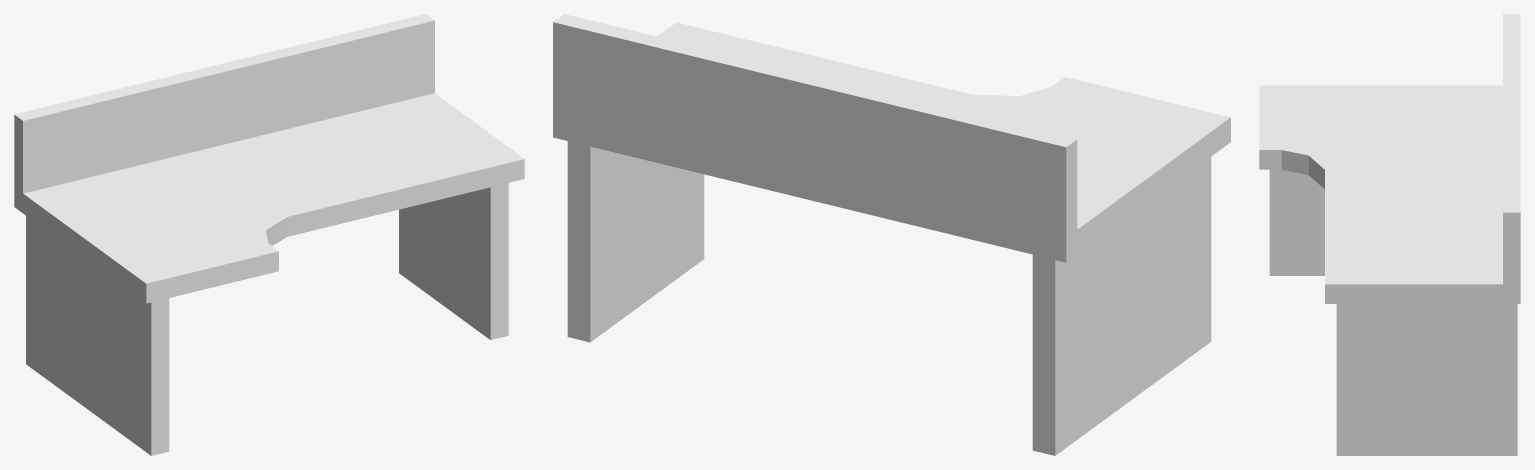
File: table-2.fbx
The picture shows the model from 3 angles, left to right: view 1: azimuth 30°, elevation 25°; view 2: azimuth 150°, elevation 25°; view 3: azimuth 270°, elevation 25°; orthographic projection. The views are drawn at different scales.
Parts seen in each view (by area): view 1: table-2; view 2: table-2; view 3: table-2.
Part boxes in pixels (box(x1,y1,x2,y2)): table-2: box(14, 14, 524, 455); table-2: box(553, 14, 1230, 455); table-2: box(1259, 14, 1520, 455).
Size of the model in its own units: 2.55 by 1.49 by 1.42.
Materials: 1 (1 with a texture image).
